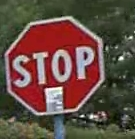stop: (1, 16, 108, 113)
